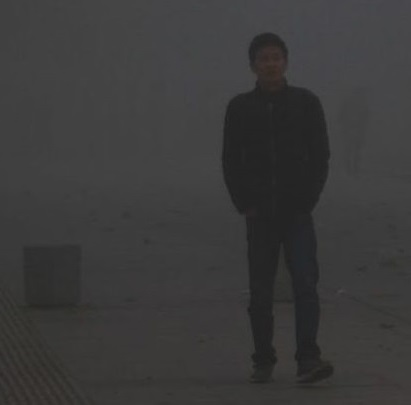person: (221, 31, 334, 384)
